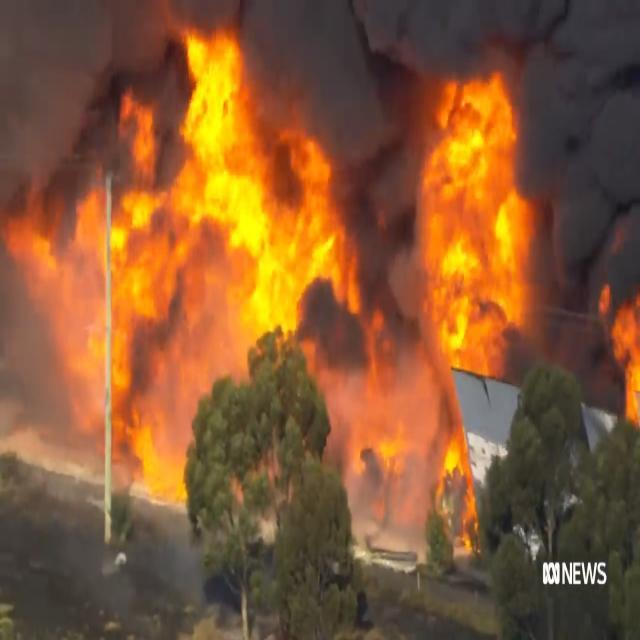fire: (16, 4, 384, 504), (415, 74, 539, 374), (432, 422, 482, 561), (597, 282, 640, 415)
